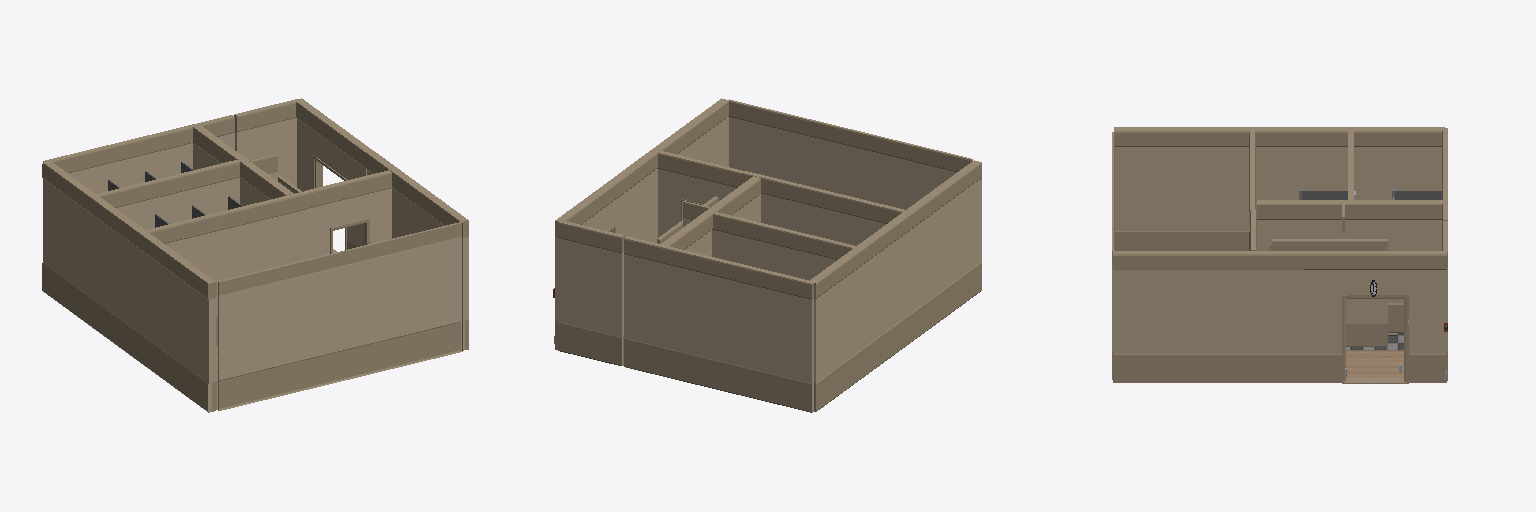
3 renders of one model, left to right at view 1: azimuth 30°, elevation 25°; view 2: azimuth 150°, elevation 25°; view 3: azimuth 270°, elevation 25°, orthographic.
Parts seen in each view (by area): view 1: group283 group280 cine1:SM_Prop_Toilet_01__4__SceneFBXASC046170p, group283 group280 group311 cine1:SM_Prop_Toilet_01__4__SceneFBXA, group283 group280 group312 cine1:SM_Prop_Toilet_01__4__SceneFBXA; view 2: group283 group280 cine1:SM_Prop_Toilet_01__4__SceneFBXASC046170p; view 3: group283 group280 cine1:SM_Prop_Toilet_01__4__SceneFBXASC046170p.
Boxes of the visible parts, x1=… form: group283 group280 cine1:SM_Prop_Toilet_01__4__SceneFBXASC046170p: x1=42, y1=98, x2=468, y2=412; group283 group280 group311 cine1:SM_Prop_Toilet_01__4__SceneFBXA: x1=145, y1=192, x2=308, y2=344; group283 group280 group312 cine1:SM_Prop_Toilet_01__4__SceneFBXA: x1=307, y1=171, x2=391, y2=258; group283 group280 cine1:SM_Prop_Toilet_01__4__SceneFBXASC046170p: x1=553, y1=98, x2=981, y2=412; group283 group280 cine1:SM_Prop_Toilet_01__4__SceneFBXASC046170p: x1=1112, y1=127, x2=1447, y2=383.
Bounding box in the file's own units: 26.5 × 12.56 × 29.55.
7 materials, 1 textured.